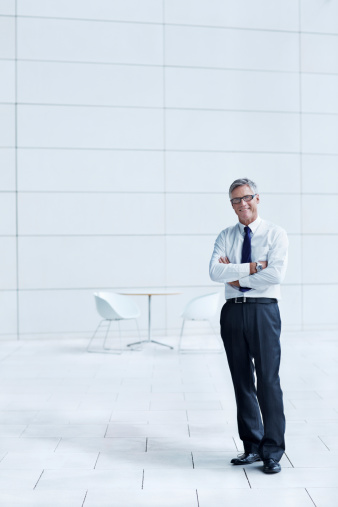em pe: (198, 174, 290, 464)
